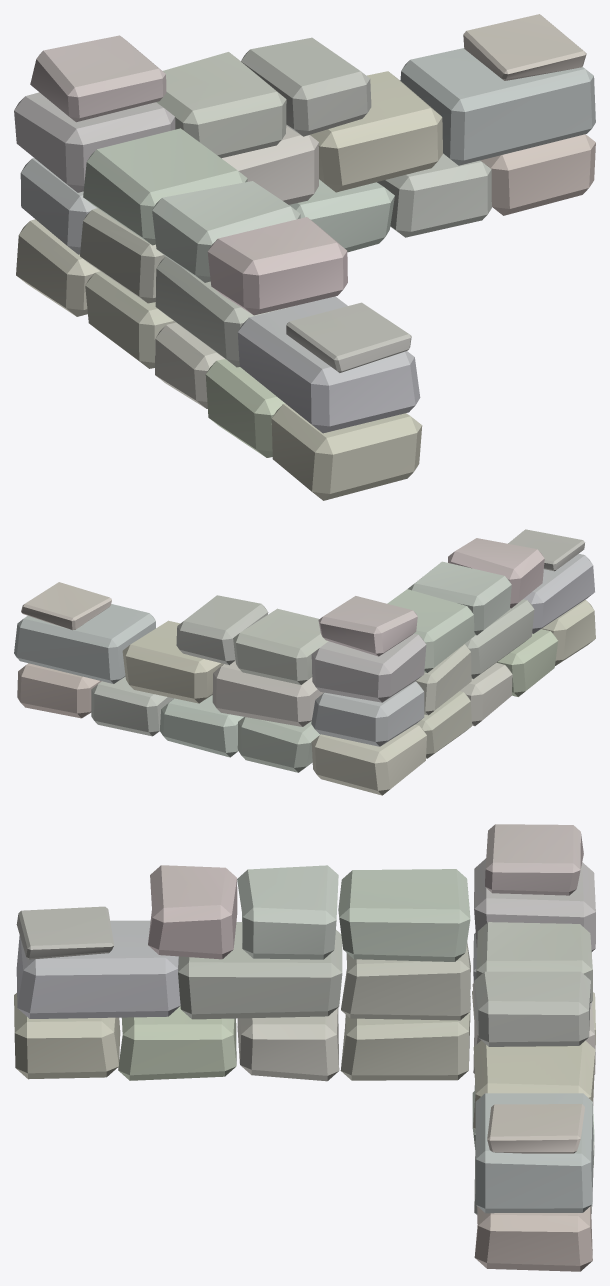
Rendered from esquina.glb.
3 renders of one model, top to bottom at view 1: azimuth 30°, elevation 25°; view 2: azimuth 150°, elevation 25°; view 3: azimuth 270°, elevation 25°, orthographic. The views are drawn at different scales.
Visible parts, largest first — view 1: Piedra_13_brazo_x_1_3, Piedra_16_brazo_z_1_3, Piedra_22_brazo_z_2_3, Piedra_09_brazo_z_0_4, Piedra_20_brazo_z_2_1, Piedra_12_brazo_x_1_2, Piedra_18_brazo_x_2_1, Piedra_23_remate_esquinero, Piedra_19_brazo_x_2_2, Piedra_21_brazo_z_2_2, Piedra_17_esquinero_2, Piedra_04_brazo_x_0_3 (+12 smaller); view 2: Piedra_13_brazo_x_1_3, Piedra_17_esquinero_2, Piedra_01_esquinero_0, Piedra_18_brazo_x_2_1, Piedra_12_brazo_x_1_2, Piedra_10_esquinero_1, Piedra_11_brazo_x_1_1, Piedra_23_remate_esquinero, Piedra_19_brazo_x_2_2, Piedra_21_brazo_z_2_2, Piedra_20_brazo_z_2_1, Piedra_03_brazo_x_0_2 (+13 smaller); view 3: Piedra_16_brazo_z_1_3, Piedra_20_brazo_z_2_1, Piedra_15_brazo_z_1_2, Piedra_13_brazo_x_1_3, Piedra_21_brazo_z_2_2, Piedra_19_brazo_x_2_2, Piedra_06_brazo_z_0_1, Piedra_22_brazo_z_2_3, Piedra_14_brazo_z_1_1, Piedra_08_brazo_z_0_3, Piedra_05_brazo_x_0_4, Piedra_23_remate_esquinero (+7 smaller).
Part boxes in pixels (x1=…): Piedra_13_brazo_x_1_3: x1=400, y1=48, x2=595, y2=165; Piedra_16_brazo_z_1_3: x1=237, y1=296, x2=420, y2=433; Piedra_22_brazo_z_2_3: x1=207, y1=217, x2=347, y2=315; Piedra_09_brazo_z_0_4: x1=271, y1=403, x2=422, y2=500; Piedra_20_brazo_z_2_1: x1=83, y1=128, x2=247, y2=245; Piedra_12_brazo_x_1_2: x1=310, y1=71, x2=442, y2=192; Piedra_18_brazo_x_2_1: x1=156, y1=52, x2=286, y2=158; Piedra_23_remate_esquinero: x1=30, y1=35, x2=166, y2=122; Piedra_19_brazo_x_2_2: x1=241, y1=37, x2=371, y2=136; Piedra_21_brazo_z_2_2: x1=152, y1=181, x2=300, y2=282; Piedra_17_esquinero_2: x1=14, y1=92, x2=175, y2=192; Piedra_04_brazo_x_0_3: x1=377, y1=153, x2=491, y2=237; Piedra_13_brazo_x_1_3: x1=14, y1=604, x2=155, y2=683; Piedra_17_esquinero_2: x1=311, y1=633, x2=426, y2=702; Piedra_01_esquinero_0: x1=311, y1=724, x2=426, y2=795; Piedra_18_brazo_x_2_1: x1=233, y1=608, x2=328, y2=684; Piedra_12_brazo_x_1_2: x1=122, y1=620, x2=223, y2=703; Piedra_10_esquinero_1: x1=311, y1=681, x2=424, y2=746; Piedra_11_brazo_x_1_1: x1=212, y1=660, x2=323, y2=726; Piedra_23_remate_esquinero: x1=318, y1=596, x2=417, y2=656; Piedra_19_brazo_x_2_2: x1=176, y1=595, x2=268, y2=665; Piedra_21_brazo_z_2_2: x1=408, y1=561, x2=511, y2=635; Piedra_20_brazo_z_2_1: x1=387, y1=589, x2=474, y2=672; Piedra_03_brazo_x_0_2: x1=160, y1=695, x2=243, y2=757; Piedra_16_brazo_z_1_3: x1=16, y1=920, x2=180, y2=1018; Piedra_20_brazo_z_2_1: x1=338, y1=869, x2=470, y2=961; Piedra_15_brazo_z_1_2: x1=178, y1=922, x2=342, y2=1019; Piedra_13_brazo_x_1_3: x1=475, y1=1093, x2=593, y2=1213; Piedra_21_brazo_z_2_2: x1=237, y1=865, x2=338, y2=959; Piedra_19_brazo_x_2_2: x1=474, y1=971, x2=590, y2=1046; Piedra_06_brazo_z_0_1: x1=340, y1=996, x2=470, y2=1080; Piedra_22_brazo_z_2_3: x1=148, y1=865, x2=237, y2=959; Piedra_14_brazo_z_1_1: x1=341, y1=942, x2=470, y2=1020; Piedra_08_brazo_z_0_3: x1=118, y1=1006, x2=236, y2=1080; Piedra_05_brazo_x_0_4: x1=474, y1=1206, x2=592, y2=1271; Piedra_23_remate_esquinero: x1=485, y1=824, x2=583, y2=895.
Bounding box in the file's own units: 2 × 0.84 × 2.
